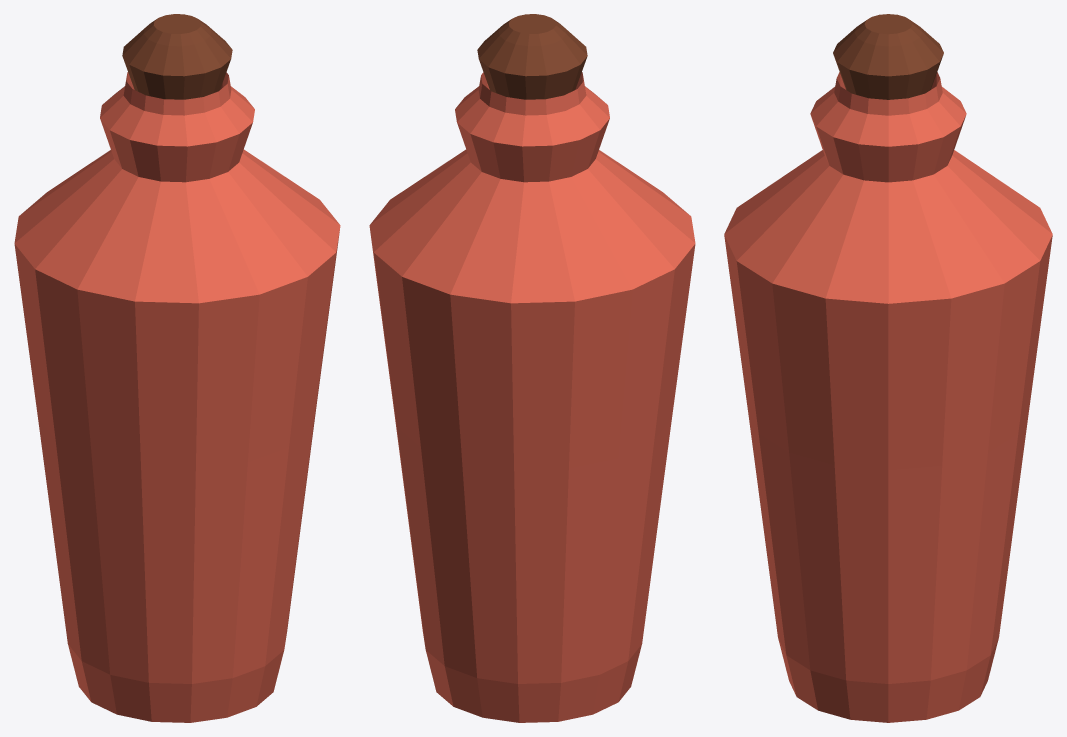
The model's file is Potionbottle3.fbx.
3 renders of one model, left to right at view 1: azimuth 30°, elevation 25°; view 2: azimuth 150°, elevation 25°; view 3: azimuth 270°, elevation 25°, orthographic.
Parts seen in each view (by area): view 1: Circle, Circle.001; view 2: Circle, Circle.001; view 3: Circle, Circle.001.
Part boxes in pixels (x1,y1,x2,y2): Circle: (14,72,340,722); Circle.001: (122,14,232,99); Circle: (369,72,695,722); Circle.001: (477,14,587,99); Circle: (724,72,1052,722); Circle.001: (833,14,943,99).
Size of the model in its own units: 331 by 729 by 331.
